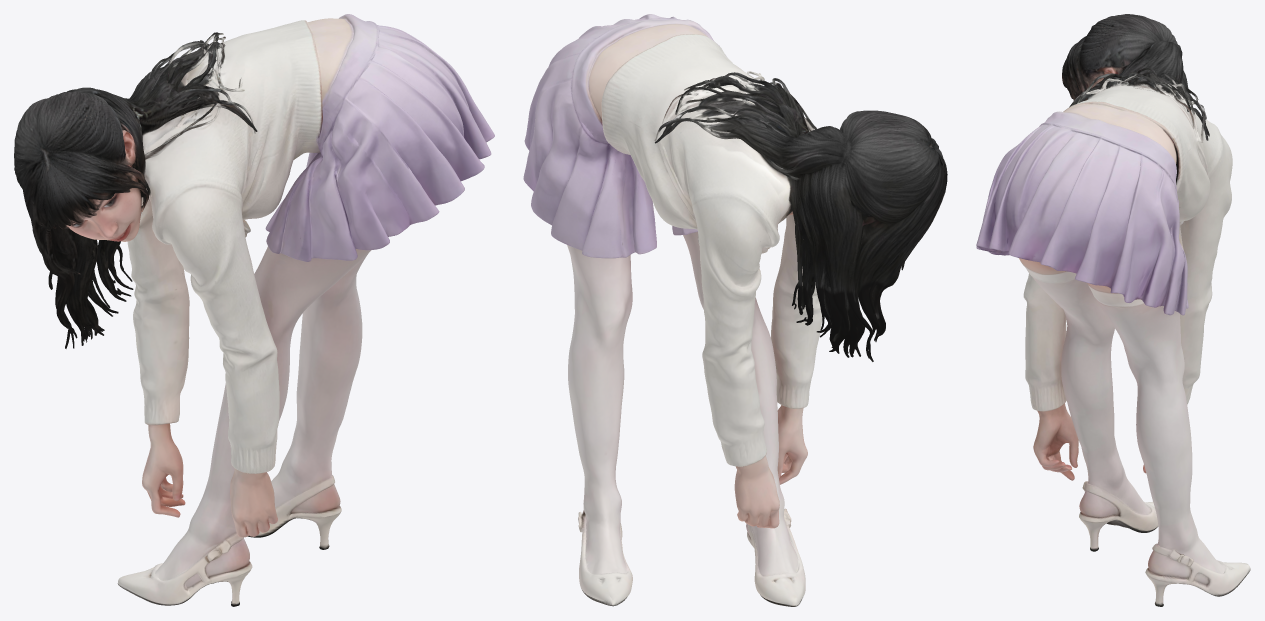
3 renders of one model, left to right at view 1: azimuth 30°, elevation 25°; view 2: azimuth 150°, elevation 25°; view 3: azimuth 270°, elevation 25°, orthographic. The views are drawn at different scales.
Parts seen in each view (by area): view 1: Mesh_0_modddif_material_0_0 (×2); view 2: Mesh_0_modddif_material_0_0 (×2); view 3: Mesh_0_modddif_material_0_0 (×2).
Part boxes in pixels (left/top/right/bottom): Mesh_0_modddif_material_0_0 (×2): left=14, top=14, right=494, bottom=606; Mesh_0_modddif_material_0_0 (×2): left=523, top=14, right=947, bottom=606; Mesh_0_modddif_material_0_0 (×2): left=976, top=14, right=1250, bottom=606.
Size of the model in its own units: 0.8423 by 1 by 0.5129.
1 material, 1 textured.
